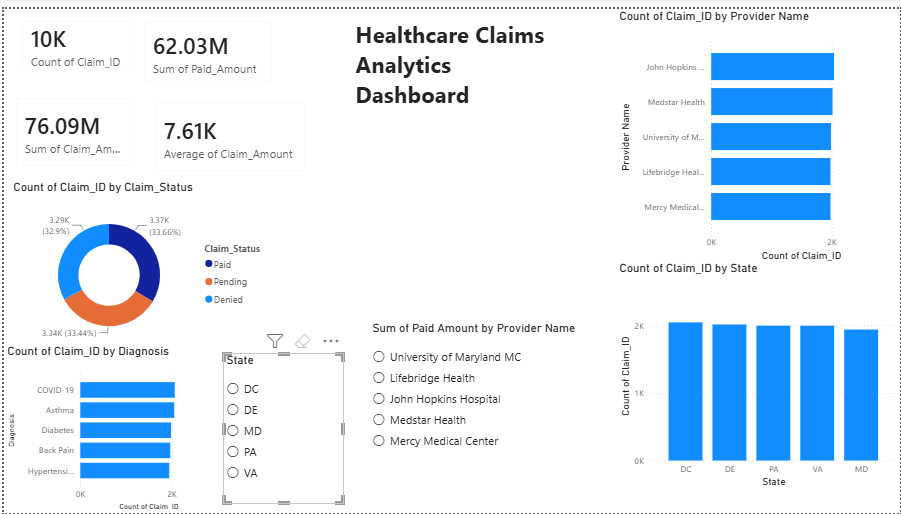

The page's visual inventory and layout, read from the dashboard file:
{"tool":"powerbi","page":{"name":"Page 1","canvas":[1280,720],"ordinal":0},"visuals":[{"type":"cardVisual","fields":{"Data":["Count(Sheet1.Claim_ID)"]},"box":[9.2,0,190.1,102.7],"z":0},{"type":"cardVisual","fields":{"Data":["Sum(Sheet1.Claim_Amount)"]},"box":[0,110.4,199.3,131.8],"z":1000},{"type":"cardVisual","fields":{"Data":["Sum(Sheet1.Paid_Amount)"]},"box":[182.4,0,217.7,121.1],"z":2000},{"type":"cardVisual","fields":{"Data":["Avg(Sheet1.Claim_Amount)"]},"box":[199.3,116.5,248.3,131.8],"z":3000},{"type":"clusteredBarChart","fields":{"Category":["Sheet1.Provider Name"],"Y":["CountNonNull(Sheet1.Claim_ID)"]},"box":[873.8,0,406.2,364.8],"z":4000},{"type":"clusteredColumnChart","fields":{"Category":["Sheet1.State"],"Y":["CountNonNull(Sheet1.Claim_ID)"]},"box":[873.8,360.2,406.2,328],"z":5000},{"type":"donutChart","fields":{"Category":["Sheet1.Claim_Status"],"Y":["CountNonNull(Sheet1.Claim_ID)"]},"box":[9.2,243.7,380,241.8],"z":5001},{"type":"clusteredBarChart","fields":{"Category":["Sheet1.Diagnosis"],"Y":["CountNonNull(Sheet1.Claim_ID)"]},"box":[0,478.3,317.3,242.2],"z":5002},{"type":"listSlicer","fields":{"Values":["Sheet1.Provider Name"]},"box":[521.2,446.1,314.3,242.2],"z":5003},{"type":"listSlicer","fields":{"Values":["Sheet1.State"]},"box":[312.7,492.1,173.2,214.6],"z":5004},{"type":"textbox","box":[496.7,9.2,286.7,185.5],"z":5005}]}

Visuals, with their boxes in screenshot pixels (x1, y1, x2, y2), scaled from the page's 1280x720 canvas onto the 901x514 screenshot:
cardVisual - Count(Sheet1.Claim_ID): bbox=(6, 0, 140, 73)
cardVisual - Sum(Sheet1.Claim_Amount): bbox=(0, 79, 140, 173)
cardVisual - Sum(Sheet1.Paid_Amount): bbox=(128, 0, 282, 86)
cardVisual - Avg(Sheet1.Claim_Amount): bbox=(140, 83, 315, 177)
clusteredBarChart - Sheet1.Provider Name x CountNonNull(Sheet1.Claim_ID): bbox=(615, 0, 900, 260)
clusteredColumnChart - Sheet1.State x CountNonNull(Sheet1.Claim_ID): bbox=(615, 257, 900, 491)
donutChart - Sheet1.Claim_Status x CountNonNull(Sheet1.Claim_ID): bbox=(6, 174, 274, 347)
clusteredBarChart - Sheet1.Diagnosis x CountNonNull(Sheet1.Claim_ID): bbox=(0, 341, 223, 513)
listSlicer - Sheet1.Provider Name: bbox=(367, 318, 588, 491)
listSlicer - Sheet1.State: bbox=(220, 351, 342, 505)
textbox: bbox=(350, 7, 551, 139)
